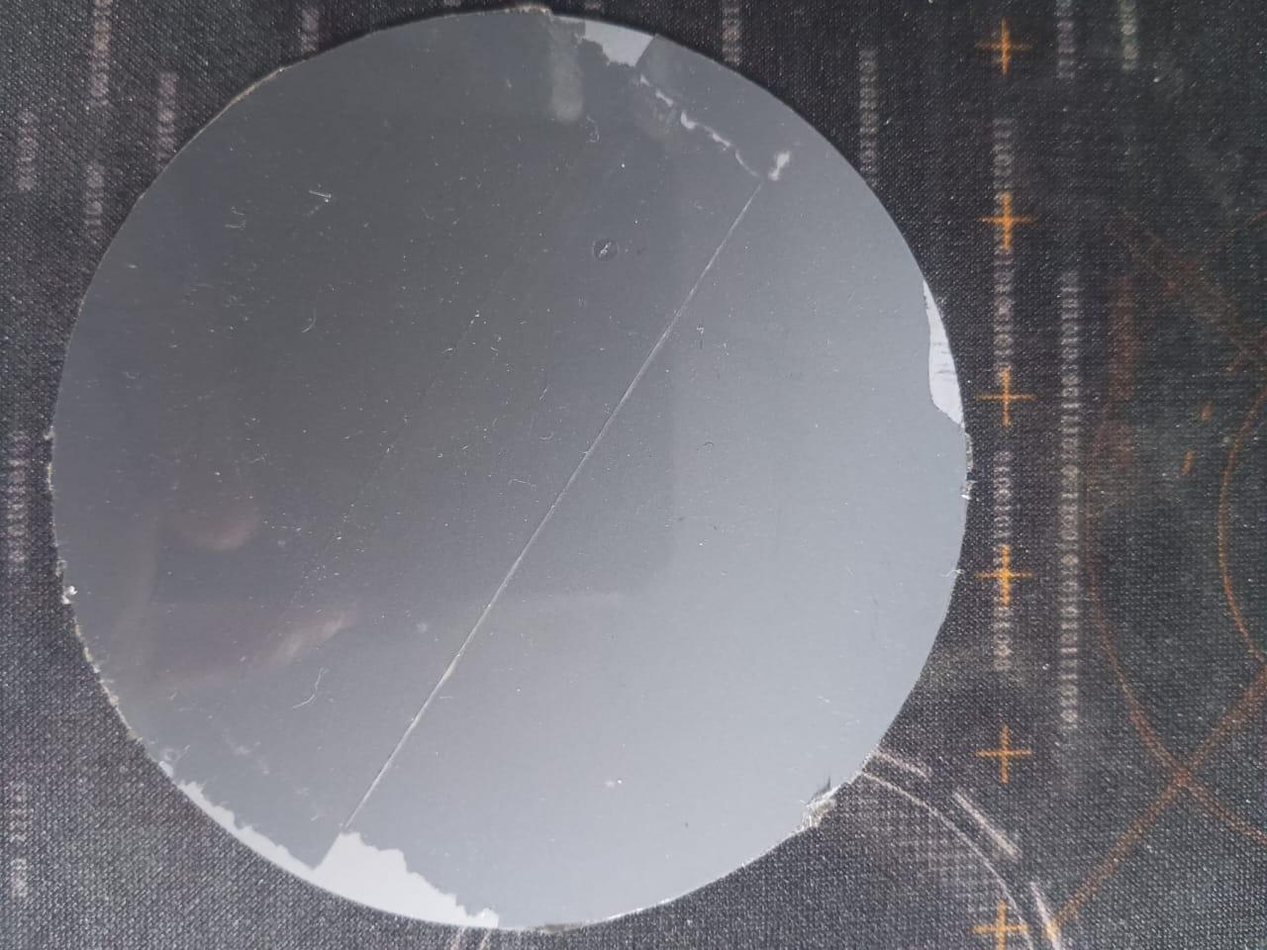crack: (342, 177, 773, 837)
scratch: (312, 815, 507, 931), (633, 60, 764, 184), (169, 774, 309, 890), (530, 0, 662, 74), (915, 275, 969, 437)
